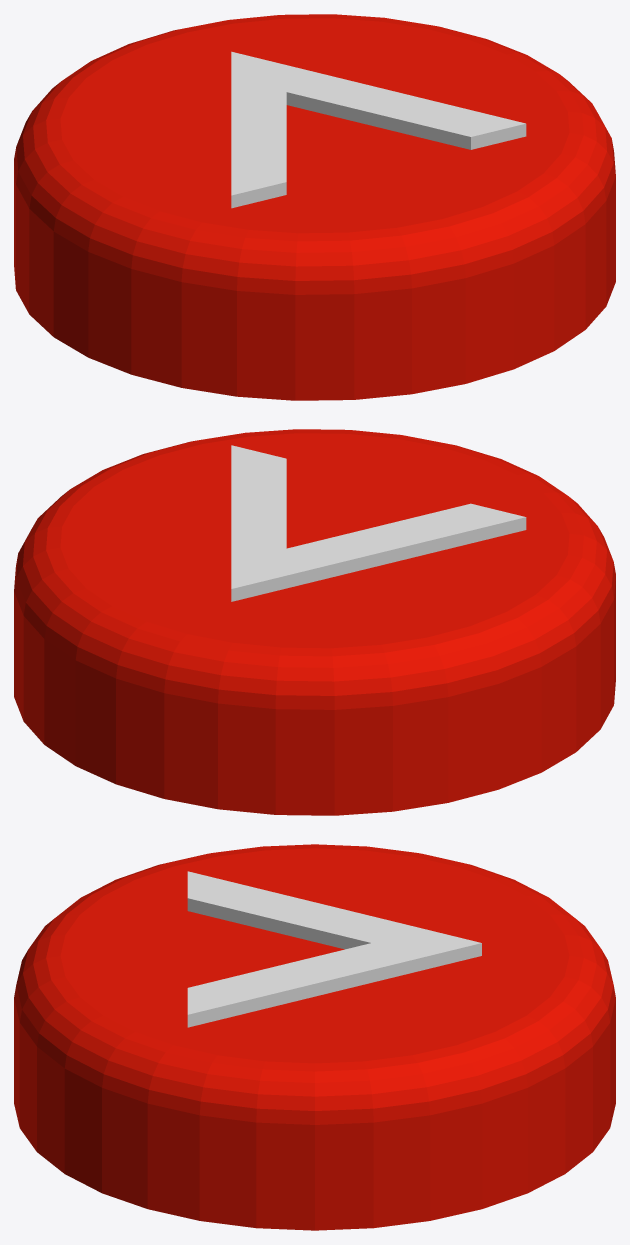
File: button_next.fbx
3 views of the same model, one above another, from view 1: azimuth 30°, elevation 25°; view 2: azimuth 150°, elevation 25°; view 3: azimuth 270°, elevation 25° (orthographic).
Visible parts, largest first — view 1: Cylinder; view 2: Cylinder; view 3: Cylinder.
Boxes of the visible parts, x1=… form: Cylinder: x1=14, y1=14, x2=615, y2=400; Cylinder: x1=14, y1=429, x2=615, y2=815; Cylinder: x1=14, y1=844, x2=615, y2=1230.
Bounding box in the file's own units: 50.02 × 14.71 × 50.02.
